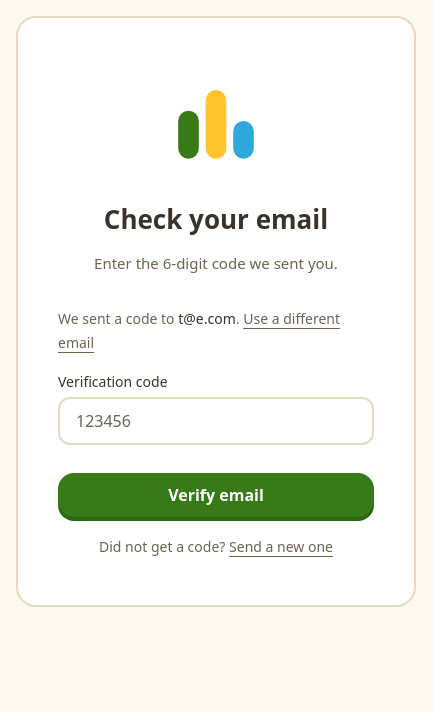
Test: EmailVerifyPage › shows resend failures
The image size is (433, 712).
Expected: the button "Verify email" is shown, [58, 473, 374, 517]
What coordinates should you click on to do the following:
click the button "Send a new one"
I would click on:
 (281, 547)
Its box is [229, 537, 333, 557].
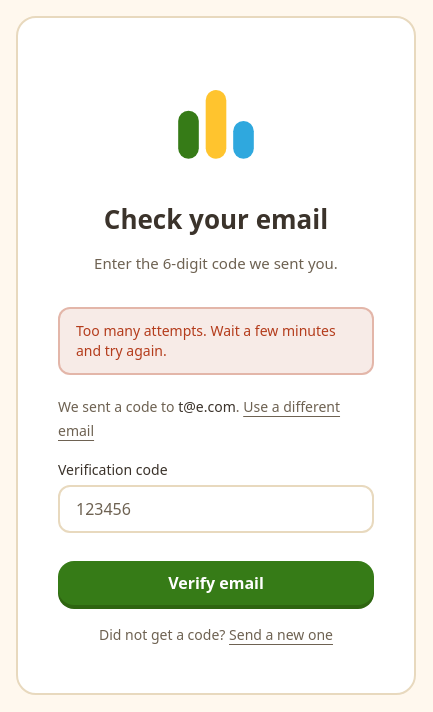
Expected: the message shows "Too many attempts.", [76, 321, 336, 360]
